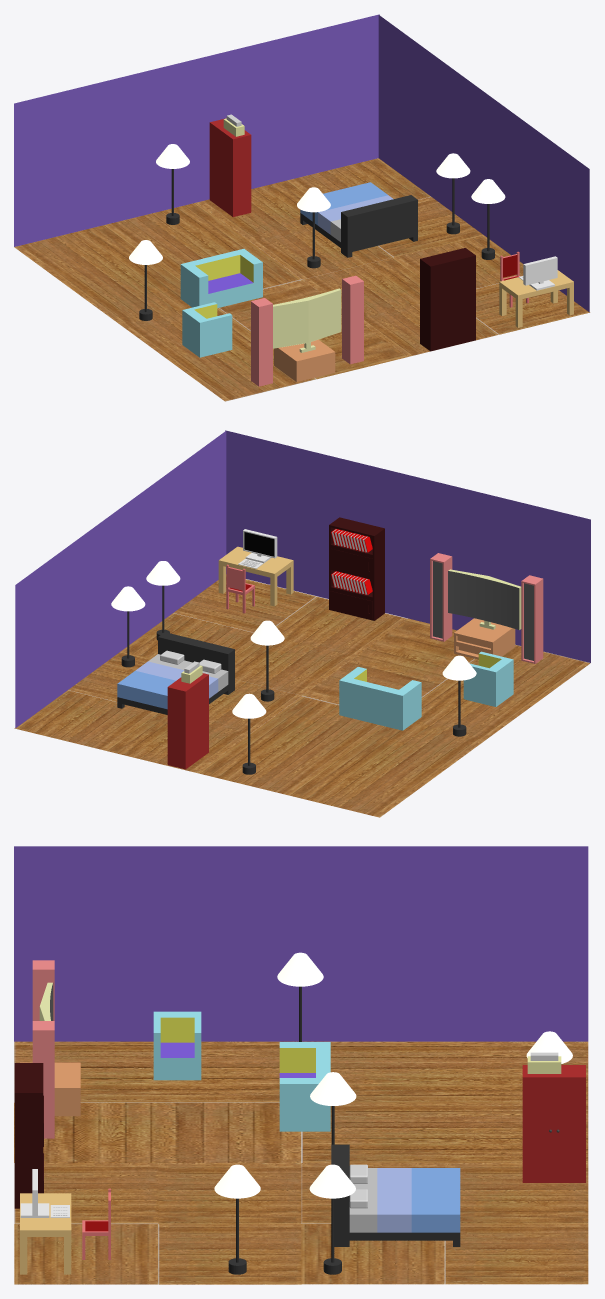
The picture shows the model from 3 angles, top to bottom: view 1: azimuth 30°, elevation 25°; view 2: azimuth 150°, elevation 25°; view 3: azimuth 270°, elevation 25°; orthographic projection. The views are drawn at different scales.
Parts seen in each view (by area): view 1: Environment2_30, Environment4_32, Floor_CommonRoom_16, Floor_Bedroom_15, Floor_Studyroom_17, bed_8, Book_shelf_11, Sofa_big_24, cupboard_14, Speakers_26, TV_28, Sofa_Small_25 (+9 smaller); view 2: Environment3_31, Floor_CommonRoom_16, Environment4_32, Floor_Studyroom_17, Floor_Bedroom_15, bed_8, Book_shelf_11, cupboard_14, Speakers_26, Sofa_big_24, TV_28, Sofa_Small_25 (+11 smaller); view 3: Environment5_33, Floor_CommonRoom_16, Floor_Studyroom_17, Floor_Bedroom_15, bed_8, cupboard_14, Sofa_big_24, Book_shelf_11, Sofa_Small_25, Speakers_26, TABLE_27, Lamp_study_room_23 (+7 smaller).
Part boxes in pixels (left/top/right/bottom): Environment2_30: left=14, top=14, right=379, bottom=246; Environment4_32: left=378, top=15, right=589, bottom=312; Floor_CommonRoom_16: left=14, top=202, right=407, bottom=401; Floor_Bedroom_15: left=197, top=158, right=483, bottom=279; Floor_Studyroom_17: left=303, top=235, right=590, bottom=356; bed_8: left=300, top=182, right=417, bottom=257; Book_shelf_11: left=420, top=248, right=475, bottom=351; Sofa_big_24: left=180, top=248, right=262, bottom=308; cupboard_14: left=209, top=114, right=251, bottom=216; Speakers_26: left=251, top=275, right=363, bottom=386; TV_28: left=273, top=288, right=341, bottom=352; Sofa_Small_25: left=182, top=302, right=232, bottom=357; Environment3_31: left=225, top=430, right=590, bottom=662; Floor_CommonRoom_16: left=197, top=618, right=590, bottom=817; Environment4_32: left=15, top=431, right=226, bottom=728; Floor_Studyroom_17: left=121, top=574, right=407, bottom=695; Floor_Bedroom_15: left=14, top=651, right=301, bottom=772; bed_8: left=117, top=632, right=234, bottom=714; Book_shelf_11: left=329, top=517, right=384, bottom=620; cupboard_14: left=167, top=661, right=208, bottom=769; Speakers_26: left=430, top=553, right=543, bottom=663; Sofa_big_24: left=339, top=667, right=421, bottom=730; TV_28: left=448, top=569, right=521, bottom=630; Sofa_Small_25: left=463, top=651, right=513, bottom=706; Environment5_33: left=14, top=846, right=588, bottom=1041; Floor_CommonRoom_16: left=14, top=1041, right=588, bottom=1162; Floor_Studyroom_17: left=14, top=1163, right=301, bottom=1284; Floor_Bedroom_15: left=301, top=1163, right=588, bottom=1284; bed_8: left=331, top=1144, right=460, bottom=1246; cupboard_14: left=522, top=1052, right=585, bottom=1182; Sofa_big_24: left=279, top=1042, right=330, bottom=1131; Book_shelf_11: left=14, top=1063, right=43, bottom=1208; Sofa_Small_25: left=153, top=1011, right=201, bottom=1080; Speakers_26: left=32, top=960, right=54, bottom=1138; TABLE_27: left=20, top=1193, right=71, bottom=1274; Lamp_study_room_23: left=309, top=1164, right=355, bottom=1274.
Size of the model in its own units: 40 by 15.02 by 40.18.
31 materials, 1 textured.
